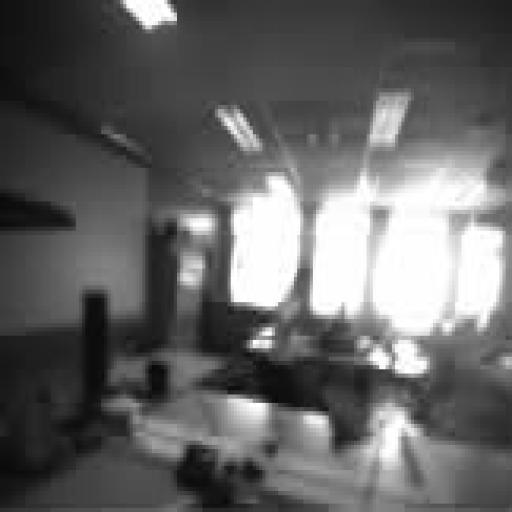human: (268, 270, 306, 400)
